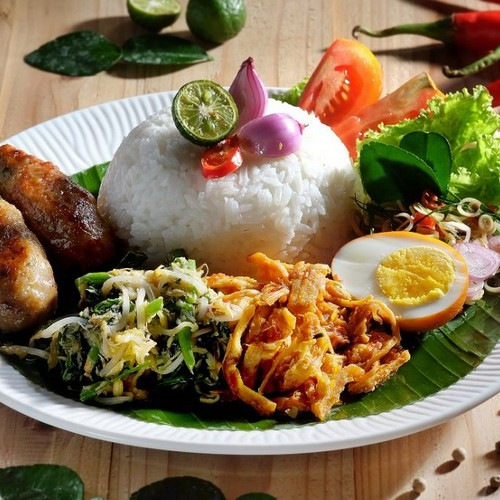nasi campur bali: (9, 148, 475, 390)
